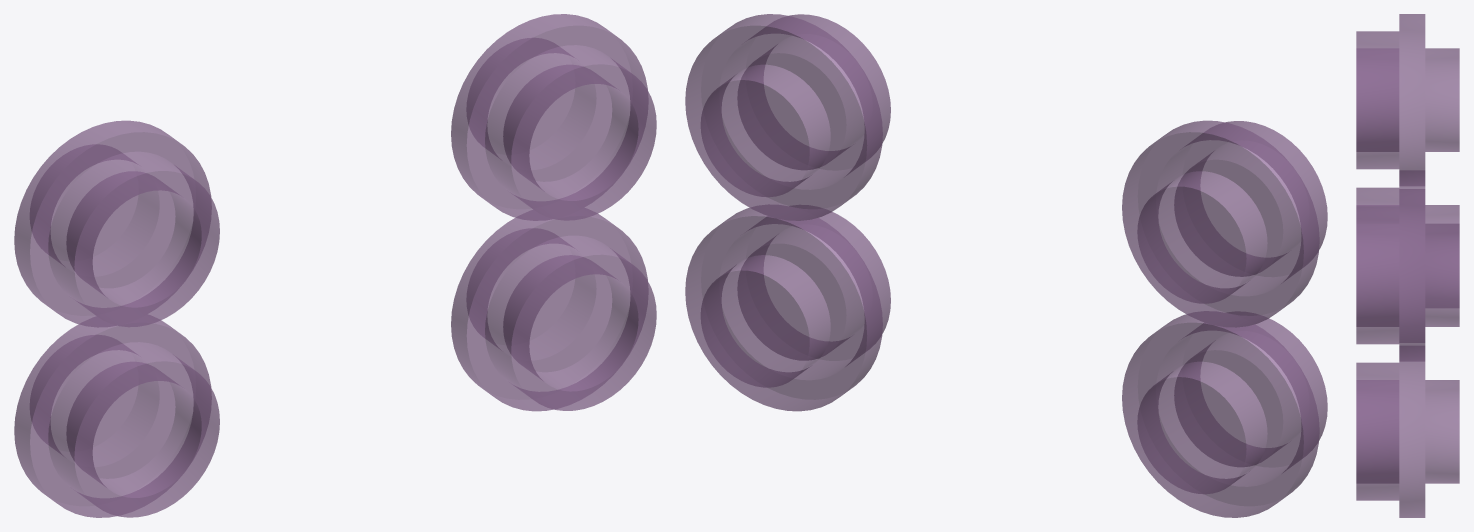
File: LegoXWingThruster.glb
The picture shows the model from 3 angles, left to right: view 1: azimuth 30°, elevation 25°; view 2: azimuth 150°, elevation 25°; view 3: azimuth 270°, elevation 25°; orthographic projection. The views are drawn at different scales.
Visible parts, largest first — view 1: LegoXWingThruster; view 2: LegoXWingThruster; view 3: LegoXWingThruster.
Part boxes in pixels (x1,y1,x2,y2): LegoXWingThruster: [14, 14, 656, 517]; LegoXWingThruster: [685, 14, 1327, 517]; LegoXWingThruster: [1356, 14, 1459, 517].
Bounding box in the file's own units: 68 × 40 × 12.
